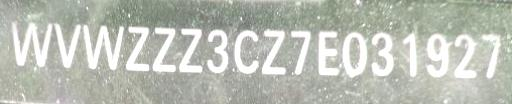letter: (8, 17, 56, 68), (81, 19, 127, 71), (230, 23, 260, 76), (177, 21, 205, 75), (476, 29, 506, 79), (450, 30, 480, 80), (54, 17, 82, 69), (260, 24, 288, 74), (315, 23, 341, 75), (340, 28, 368, 76), (368, 30, 396, 78), (150, 22, 176, 73), (424, 31, 452, 78), (399, 30, 425, 78), (126, 22, 150, 72), (205, 25, 229, 74), (290, 28, 314, 74)
